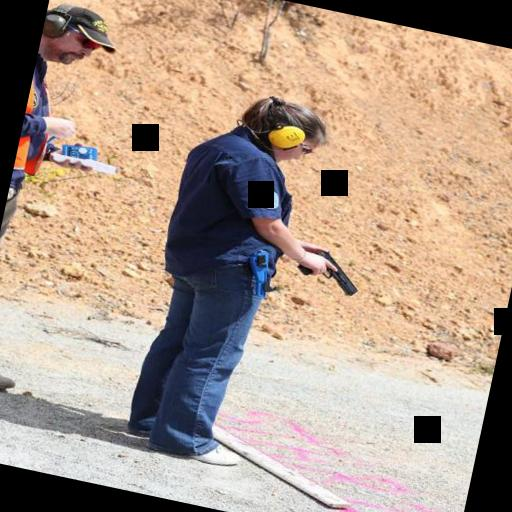Handgun: (286, 237, 374, 303)
